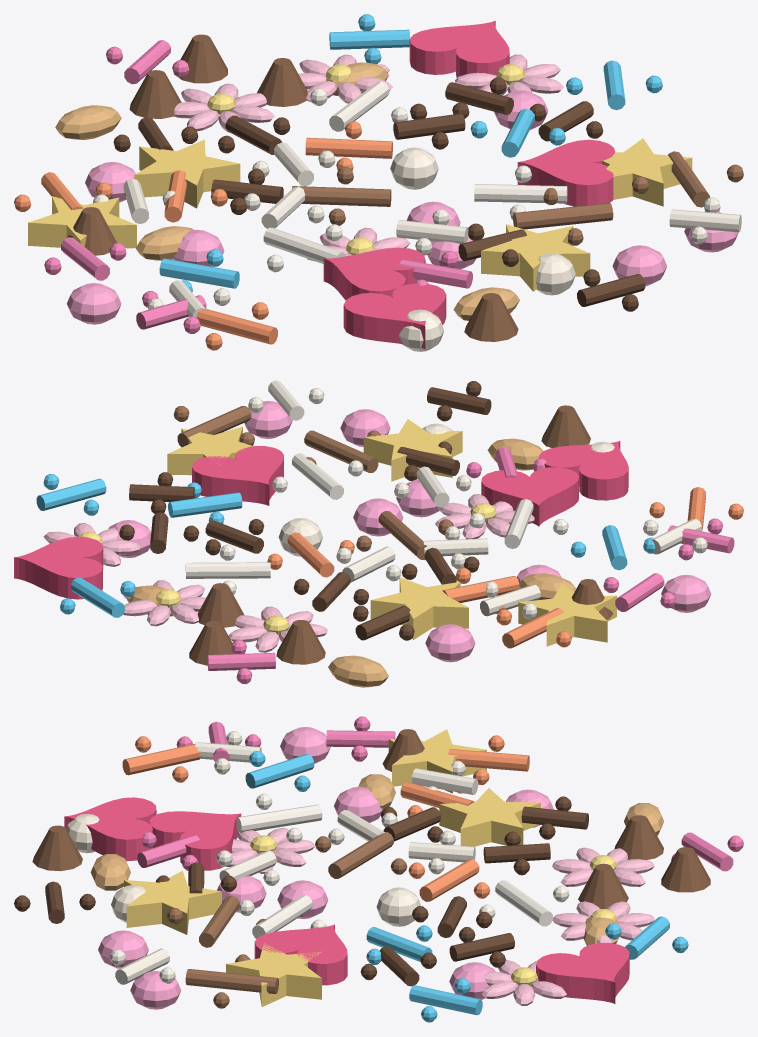
File: toppings_round_2_tier.glb
3 views of the same model, one above another, from view 1: azimuth 30°, elevation 25°; view 2: azimuth 150°, elevation 25°; view 3: azimuth 270°, elevation 25° (orthographic). The views are drawn at different scales.
Visible parts, largest first — view 1: ToppingHeart_round_2_00, ToppingHeart_round_2_02, ToppingHeart_round_2_03, ToppingStar_round_2_02, ToppingHeart_round_2_01, ToppingStar_round_2_03, ToppingStar_round_2_01, ToppingStar_round_2_00, ToppingChocolateChip_round_2_04, ToppingSprinkle_round_2_09_Body, ToppingDot_round_2_02, ToppingChocolateChip_round_2_02 (+48 smaller); view 2: ToppingHeart_round_2_00, ToppingHeart_round_2_02, ToppingHeart_round_2_01, ToppingHeart_round_2_03, ToppingStar_round_2_02, ToppingStar_round_2_00, ToppingStar_round_2_03, ToppingStar_round_2_01, ToppingChocolateChip_round_2_02, ToppingDot_round_2_04, ToppingNut_round_2_00, ToppingSprinkle_round_2_13_Body (+43 smaller); view 3: ToppingHeart_round_2_00, ToppingStar_round_2_02, ToppingStar_round_2_03, ToppingHeart_round_2_03, ToppingHeart_round_2_01, ToppingHeart_round_2_02, ToppingStar_round_2_01, ToppingStar_round_2_00, ToppingChocolateChip_round_2_03, ToppingChocolateChip_round_2_04, ToppingSprinkle_round_2_04_Body, ToppingChocolateChip_round_2_02 (+47 smaller).
Boxes of the visible parts, x1,y1,x2,y2 form: ToppingHeart_round_2_00: [409, 20, 509, 77]; ToppingHeart_round_2_02: [517, 139, 615, 206]; ToppingHeart_round_2_03: [343, 283, 446, 348]; ToppingStar_round_2_02: [134, 139, 240, 208]; ToppingHeart_round_2_01: [323, 247, 425, 300]; ToppingStar_round_2_03: [481, 224, 590, 291]; ToppingStar_round_2_01: [602, 138, 692, 206]; ToppingStar_round_2_00: [28, 196, 136, 248]; ToppingChocolateChip_round_2_04: [464, 293, 518, 341]; ToppingSprinkle_round_2_09_Body: [513, 203, 613, 229]; ToppingDot_round_2_02: [67, 283, 121, 324]; ToppingChocolateChip_round_2_02: [129, 70, 181, 118]; ToppingHeart_round_2_00: [14, 536, 103, 599]; ToppingHeart_round_2_02: [192, 446, 283, 505]; ToppingHeart_round_2_01: [481, 467, 578, 526]; ToppingHeart_round_2_03: [539, 441, 628, 500]; ToppingStar_round_2_02: [370, 577, 468, 639]; ToppingStar_round_2_00: [518, 584, 616, 646]; ToppingStar_round_2_03: [363, 419, 462, 481]; ToppingStar_round_2_01: [167, 426, 264, 475]; ToppingChocolateChip_round_2_02: [276, 620, 325, 664]; ToppingDot_round_2_04: [425, 624, 475, 662]; ToppingNut_round_2_00: [328, 655, 388, 687]; ToppingSprinkle_round_2_13_Body: [185, 562, 270, 578]; ToppingHeart_round_2_00: [536, 943, 629, 1003]; ToppingStar_round_2_02: [439, 788, 540, 846]; ToppingStar_round_2_03: [124, 870, 221, 934]; ToppingHeart_round_2_03: [64, 797, 156, 861]; ToppingHeart_round_2_01: [149, 811, 241, 870]; ToppingHeart_round_2_02: [254, 924, 347, 985]; ToppingStar_round_2_01: [226, 943, 321, 1006]; ToppingStar_round_2_00: [388, 729, 486, 793]; ToppingChocolateChip_round_2_03: [661, 847, 710, 892]; ToppingChocolateChip_round_2_04: [32, 825, 82, 871]; ToppingSprinkle_round_2_04_Body: [185, 969, 278, 993]; ToppingChocolateChip_round_2_02: [614, 815, 663, 859].
Size of the model in its own units: 1.19 by 0.0993 by 1.23.
